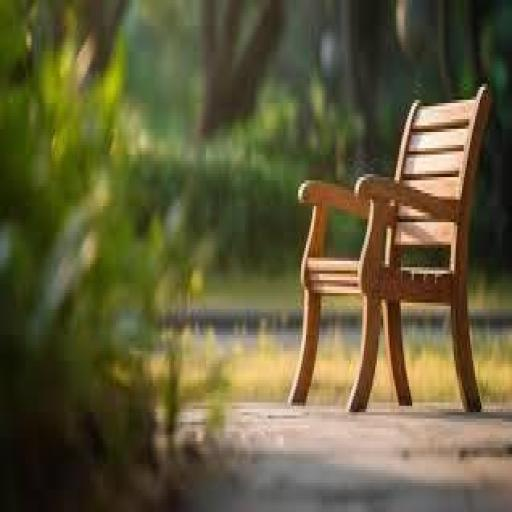chair: (291, 87, 491, 422)
